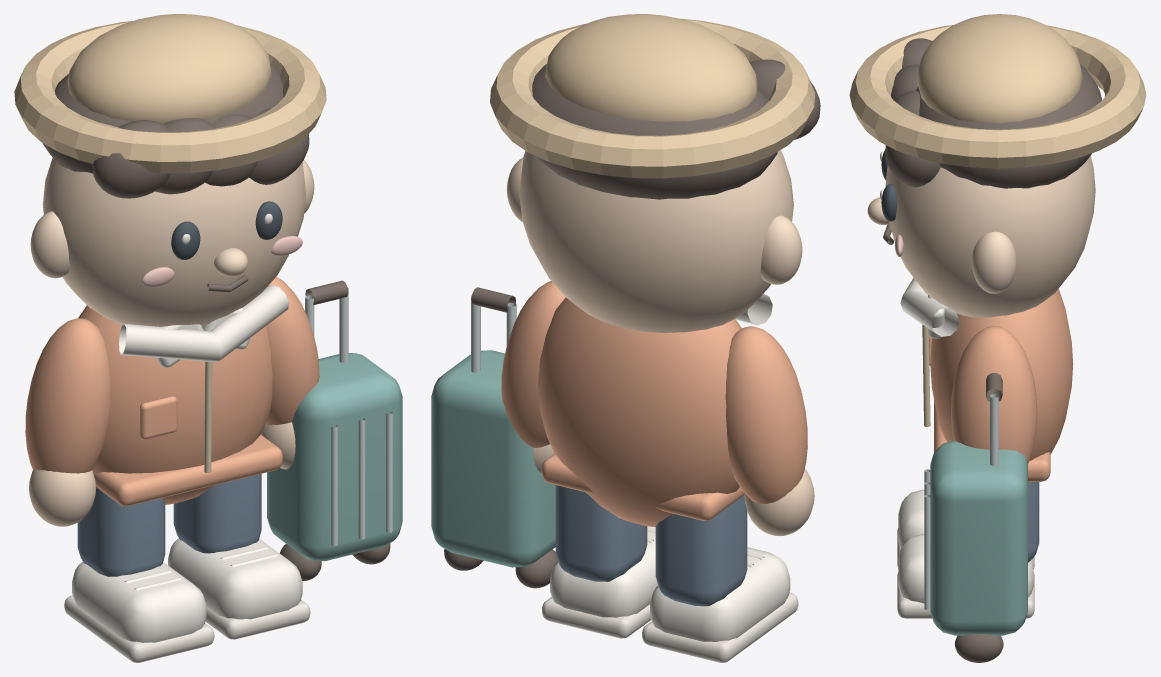
Rendered from traveller.fbx.
3 views of the same model, side by side, from view 1: azimuth 30°, elevation 25°; view 2: azimuth 150°, elevation 25°; view 3: azimuth 270°, elevation 25° (orthographic). The views are drawn at different scales.
Parts seen in each view (by area): view 1: Body.003, WalkLeg_L.003, WalkLeg_R.003, WalkArm_L.003, WalkArm_R.003; view 2: Body.003, WalkLeg_L.003, WalkArm_L.003, WalkLeg_R.003, WalkArm_R.003; view 3: Body.003, WalkArm_R.003, WalkLeg_R.003, WalkLeg_L.003.
Boxes of the visible parts, bbox=[...] form: Body.003: bbox=[14, 14, 402, 580]; WalkLeg_L.003: bbox=[64, 487, 214, 662]; WalkLeg_R.003: bbox=[168, 474, 310, 639]; WalkArm_L.003: bbox=[25, 318, 110, 526]; WalkArm_R.003: bbox=[260, 276, 319, 469]; Body.003: bbox=[431, 14, 820, 588]; WalkLeg_L.003: bbox=[642, 495, 798, 662]; WalkArm_L.003: bbox=[725, 326, 814, 536]; WalkLeg_R.003: bbox=[542, 485, 657, 638]; WalkArm_R.003: bbox=[501, 281, 565, 472]; Body.003: bbox=[849, 14, 1146, 662]; WalkArm_R.003: bbox=[951, 326, 1037, 463]; WalkLeg_R.003: bbox=[897, 482, 1039, 618]; WalkLeg_L.003: bbox=[897, 489, 1034, 568].
Bounding box in the file's own units: 102 × 161 × 79.
